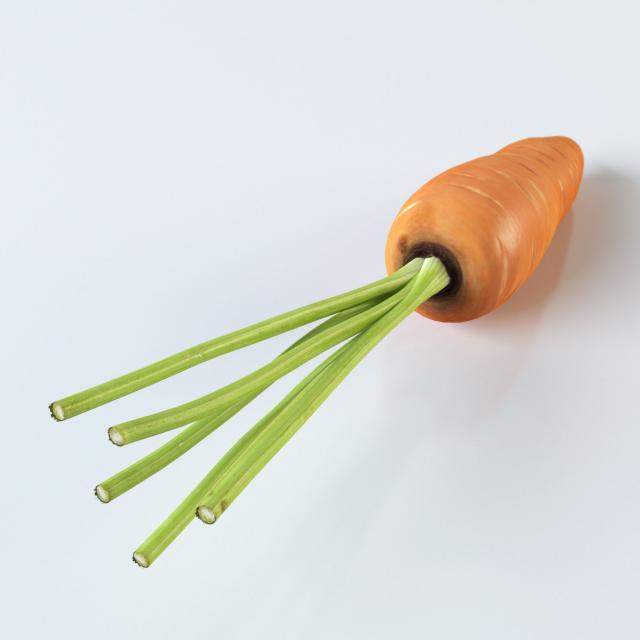carrot: (378, 131, 588, 351)
